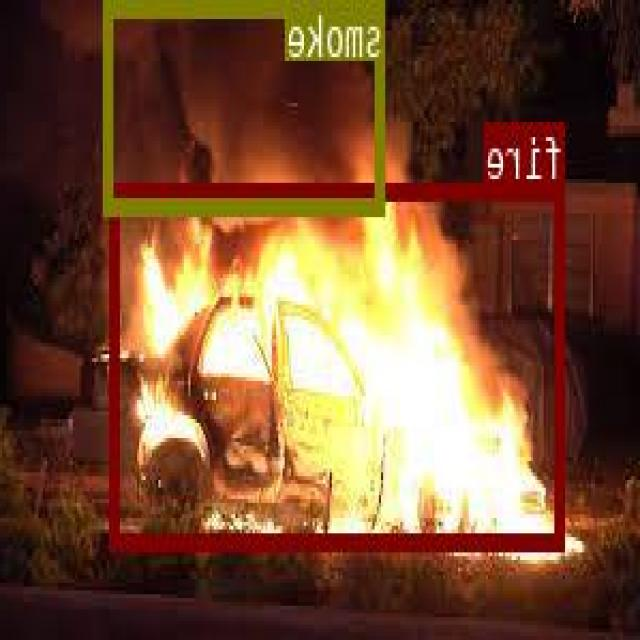fire: (113, 182, 567, 546)
smoke: (106, 0, 387, 213)
